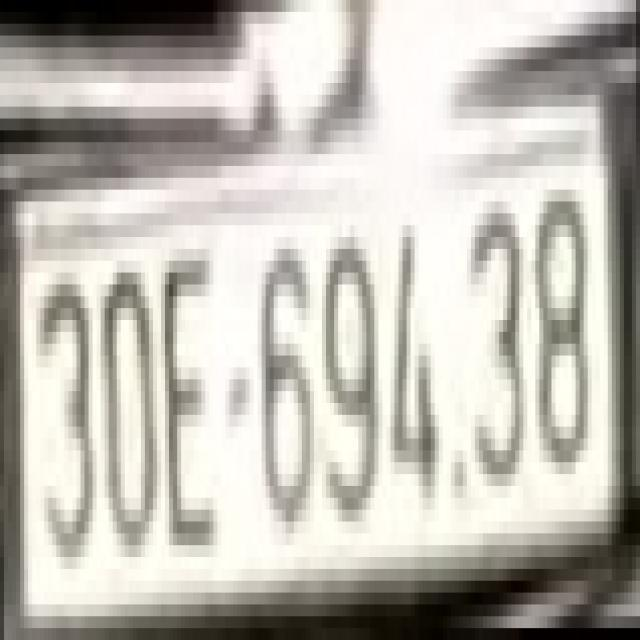0: (100, 249, 158, 557)
3: (36, 272, 96, 558), (466, 201, 524, 486)
4: (386, 213, 439, 510)
6: (258, 237, 314, 522)
8: (535, 178, 592, 474)
9: (322, 225, 378, 522)
E: (161, 248, 221, 546)
